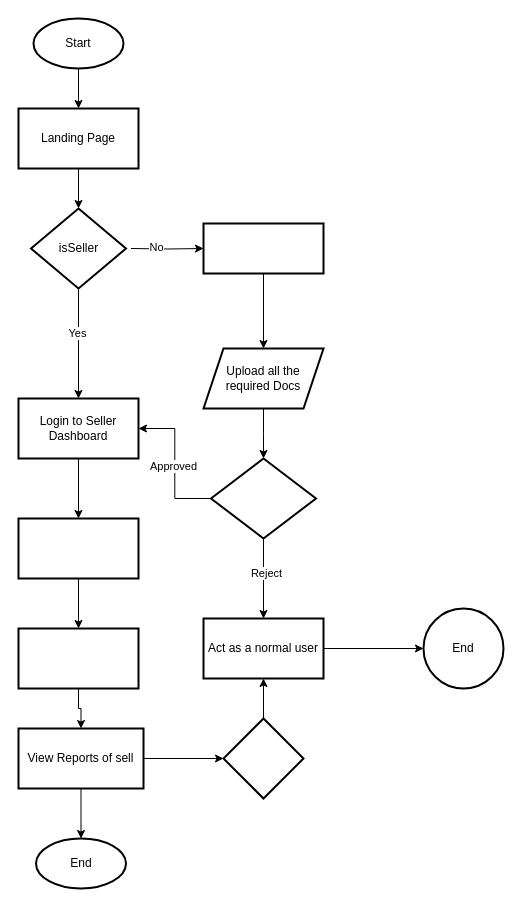
The diagram is 521 pixels wide and 906 high, and some of its shapes have lost their labels. The box of each missing label's shape, as (x1, y1, x2, y2) in pixels:
Decison from Admin: (210, 457, 316, 539)
If seller misbehave: (222, 717, 304, 799)
Manage all orders: (17, 627, 139, 689)
Manage all the product-listing / previous stocks: (17, 517, 139, 579)
Request for Seller: (202, 222, 324, 274)
